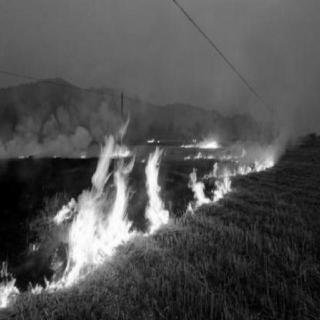Fire: (1, 123, 170, 311), (182, 112, 280, 214)
